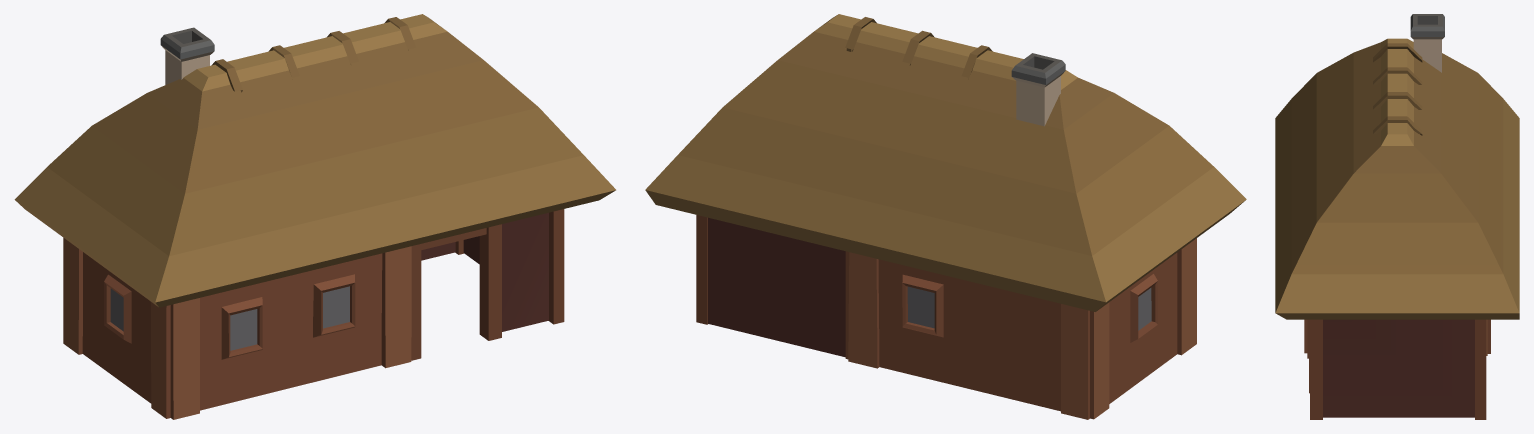
File: log_house.fbx
The picture shows the model from 3 angles, left to right: view 1: azimuth 30°, elevation 25°; view 2: azimuth 150°, elevation 25°; view 3: azimuth 270°, elevation 25°; orthographic projection. The views are drawn at different scales.
Visible parts, largest first — view 1: log_house; view 2: log_house; view 3: log_house.
Boxes of the visible parts, bbox=[...] form: log_house: bbox=[14, 14, 615, 419]; log_house: bbox=[645, 14, 1246, 419]; log_house: bbox=[1275, 14, 1519, 419].
Bounding box in the file's own units: 390 × 251 × 206.
